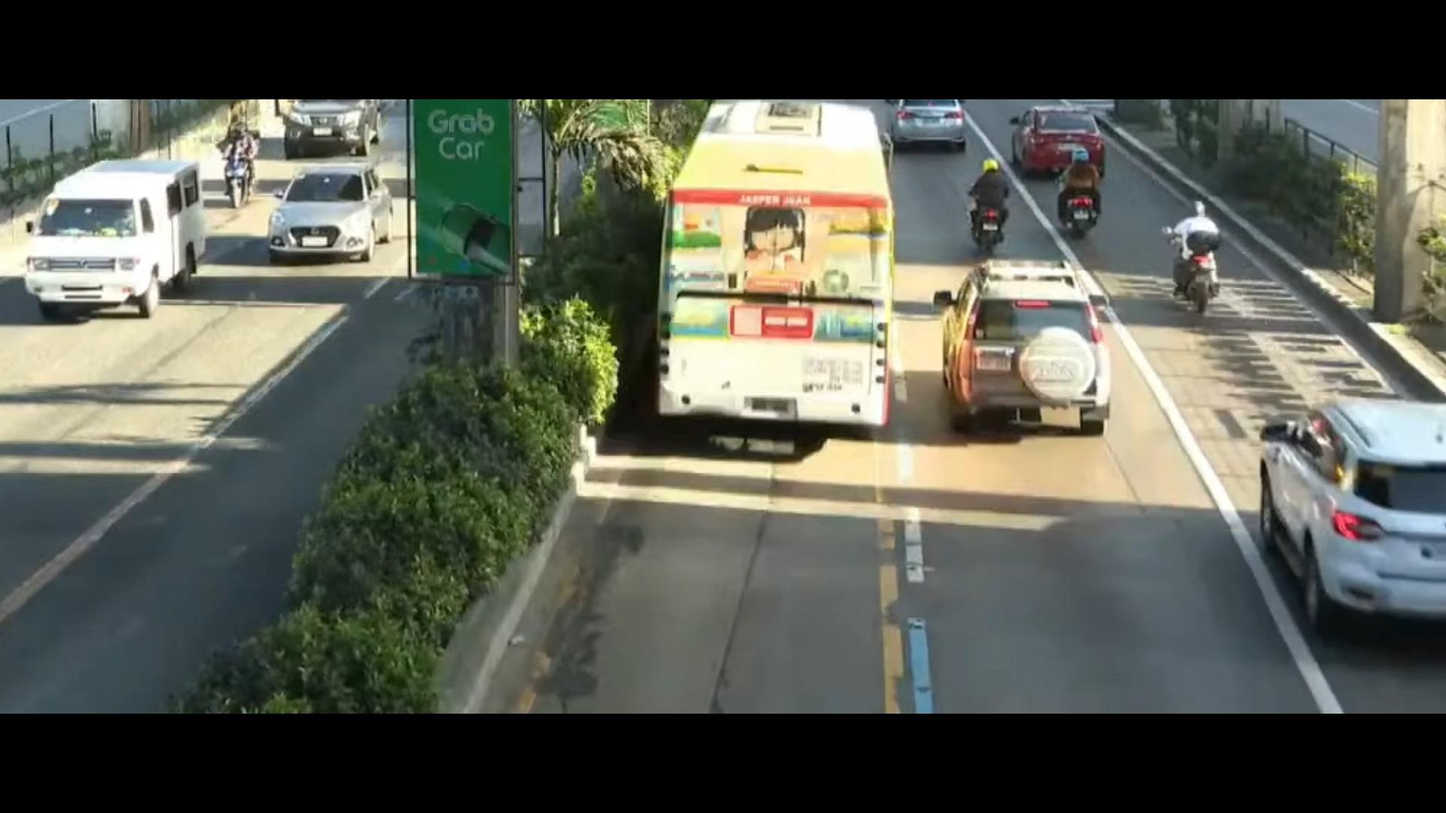Bus: (650, 75, 913, 461)
Motorcycle: (1149, 183, 1252, 349), (955, 155, 1036, 270), (203, 91, 264, 215), (1044, 140, 1113, 241)
Multicab: (21, 151, 209, 333)
SUV: (1198, 379, 1446, 627), (905, 254, 1139, 465), (271, 96, 383, 166)
Sedan: (251, 157, 394, 285), (1007, 93, 1104, 170), (893, 99, 968, 162)
